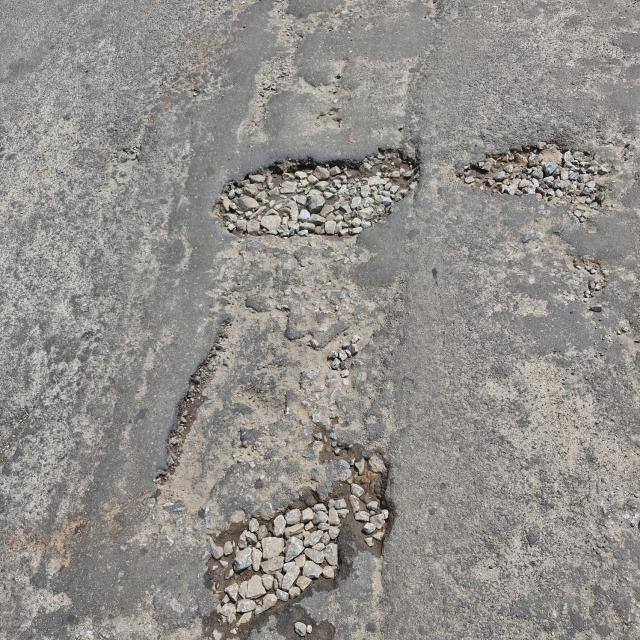pothole: (149, 288, 405, 640), (199, 132, 432, 241), (448, 128, 619, 235)
